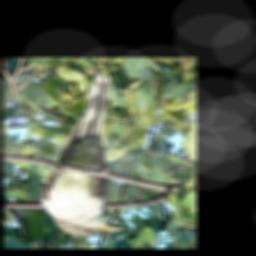Cuckoo: (41, 71, 124, 239)
